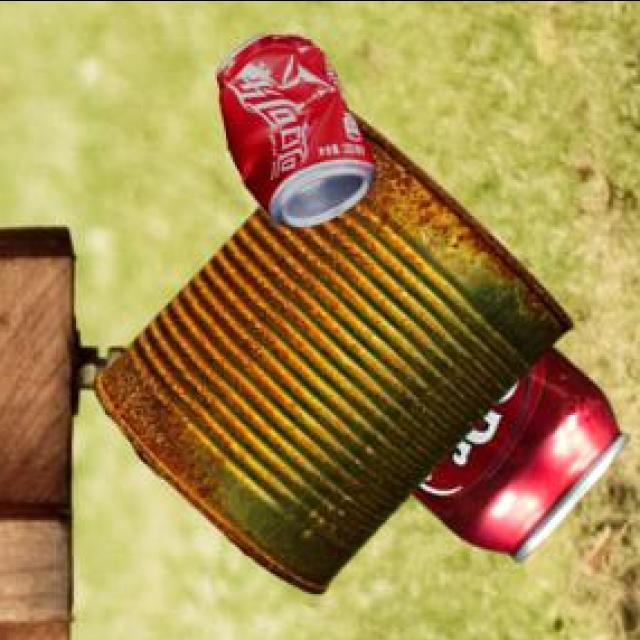logam: (91, 115, 570, 596), (408, 348, 625, 563), (214, 37, 373, 229)
